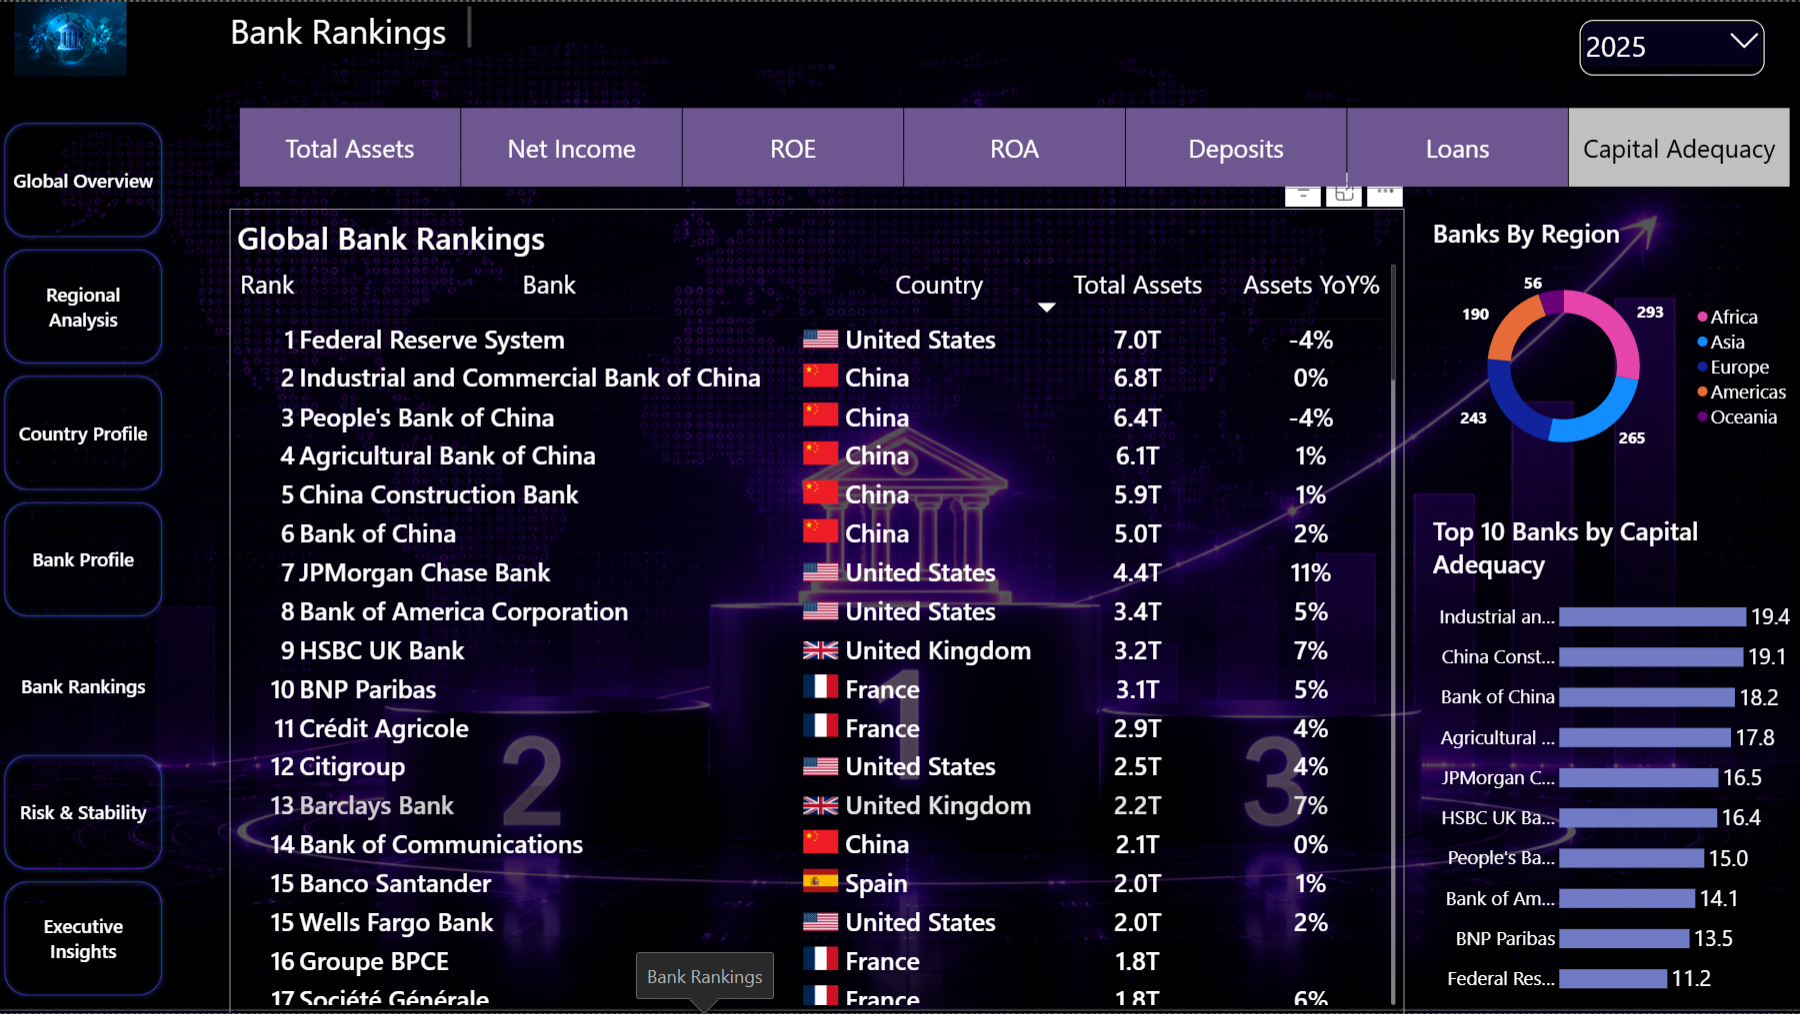

Layout of this report page (visuals, bound fields, positions):
{"tool":"powerbi","page":{"name":"Bank Rankings","canvas":[3840,2160],"ordinal":4},"visuals":[{"type":"tableEx","title":"Global Bank Rankings","fields":{"Values":["Bank_count.Bank Rank","DimBank.bank_name","DimBank.Flag URL","DimBank.country_name","Bank_count.Bank Total Assets","Bank_count.Total Assets YoY %"]},"box":[490.4,443,2506,1718.1],"z":1000},{"type":"slicer","fields":{"Values":["DimYear.Year"]},"box":[3371.2,39.9,395.1,119.6],"z":2000},{"type":"clusteredBarChart","fields":{"Category":["DimBank.bank_name"],"Y":["Bank_count.Selected Ranking Metric"]},"box":[3040.7,1079,797.4,1082.1],"z":3000},{"type":"slicer","fields":{"Values":["Ranking Metrics.Metric"]},"box":[489.4,224.7,3349.4,174],"z":4000},{"type":"donutChart","title":"Banks By Region","fields":{"Category":["public regions.region_name"],"Y":["Bank_count.Bank Count"]},"box":[3040.7,443,797.4,588.5],"z":5000},{"type":"textbox","box":[490.4,9.5,515.8,91.8],"z":6000},{"type":"pageNavigator","box":[0,250.1,355.2,1885],"z":6001},{"type":"image","box":[0,0,300.9,159.5],"z":6002}]}

Visuals, with their boxes on the page's 3840x2160 design canvas (x1, y1, x2, y2). These are canvas units, not pixel positions in the 1800x1014 screenshot, which may show the page scaled, cropped or inside an application window:
"Global Bank Rankings" tableEx: 490:443:2996:2161
slicer - DimYear.Year: 3371:40:3766:160
clusteredBarChart - DimBank.bank_name x Bank_count.Selected Ranking Metric: 3041:1079:3838:2161
slicer - Ranking Metrics.Metric: 489:225:3839:399
"Banks By Region" donutChart: 3041:443:3838:1032
textbox: 490:10:1006:101
pageNavigator: 0:250:355:2135
image: 0:0:301:160
